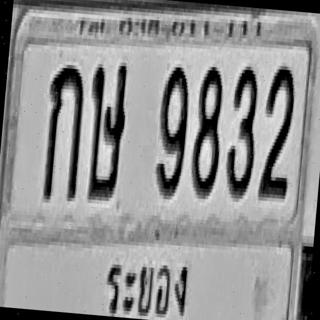A01: (40, 60, 87, 202)
A39: (82, 58, 130, 200)
N02: (257, 61, 297, 199)
N03: (224, 62, 261, 199)
N08: (188, 62, 226, 196)
N09: (153, 63, 192, 197)
P53: (102, 242, 191, 320)
